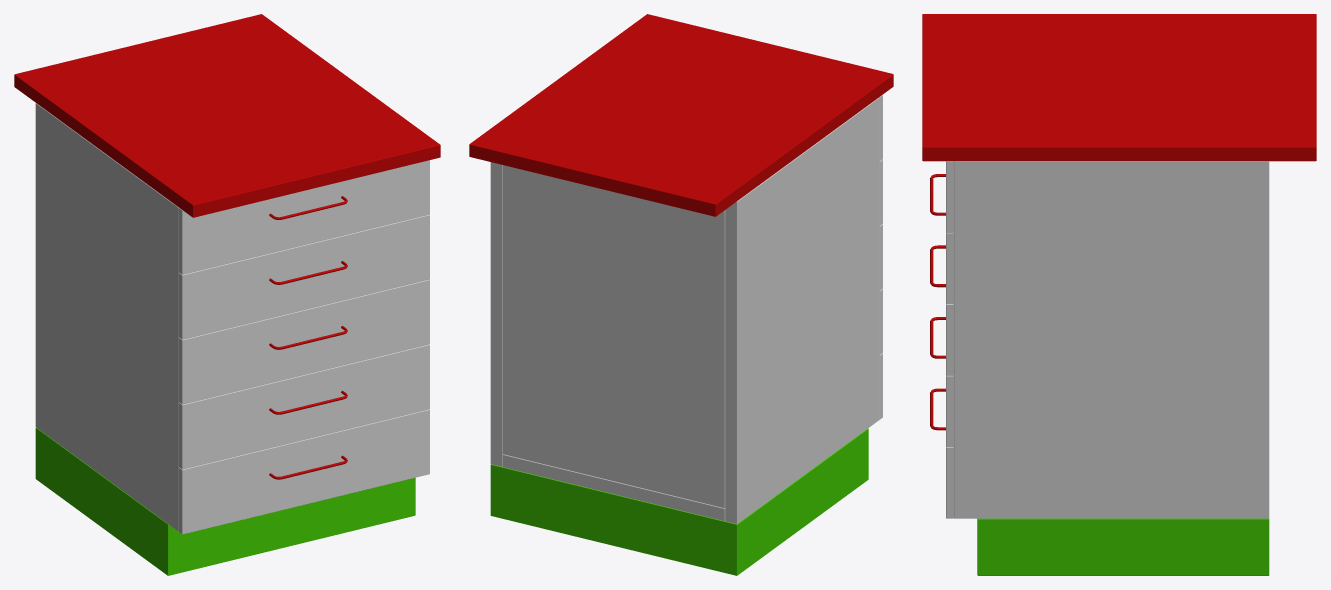
Rendered from Bench01.fbx.
3 views of the same model, side by side, from view 1: azimuth 30°, elevation 25°; view 2: azimuth 150°, elevation 25°; view 3: azimuth 270°, elevation 25° (orthographic). The views are drawn at different scales.
Visible parts, largest first — view 1: Bench01, Drawer03, Drawer04, Drawer05, Drawer02, Drawer01; view 2: Bench01; view 3: Bench01, Drawer02, Drawer04, Drawer05, Drawer03, Drawer01.
Part boxes in pixels (left/top/right/bottom): Bench01: left=14, top=14, right=440, bottom=575; Drawer03: left=179, top=279, right=429, bottom=404; Drawer04: left=179, top=344, right=429, bottom=469; Drawer05: left=179, top=409, right=429, bottom=534; Drawer02: left=179, top=214, right=429, bottom=339; Drawer01: left=179, top=160, right=429, bottom=274; Bench01: left=469, top=14, right=893, bottom=575; Bench01: left=922, top=14, right=1316, bottom=575; Drawer02: left=930, top=174, right=953, bottom=304; Drawer04: left=930, top=317, right=953, bottom=447; Drawer05: left=930, top=388, right=953, bottom=518; Drawer03: left=930, top=245, right=953, bottom=375; Drawer01: left=946, top=161, right=953, bottom=232.
Bounding box in the file's own units: 50 × 62.5 × 75.
